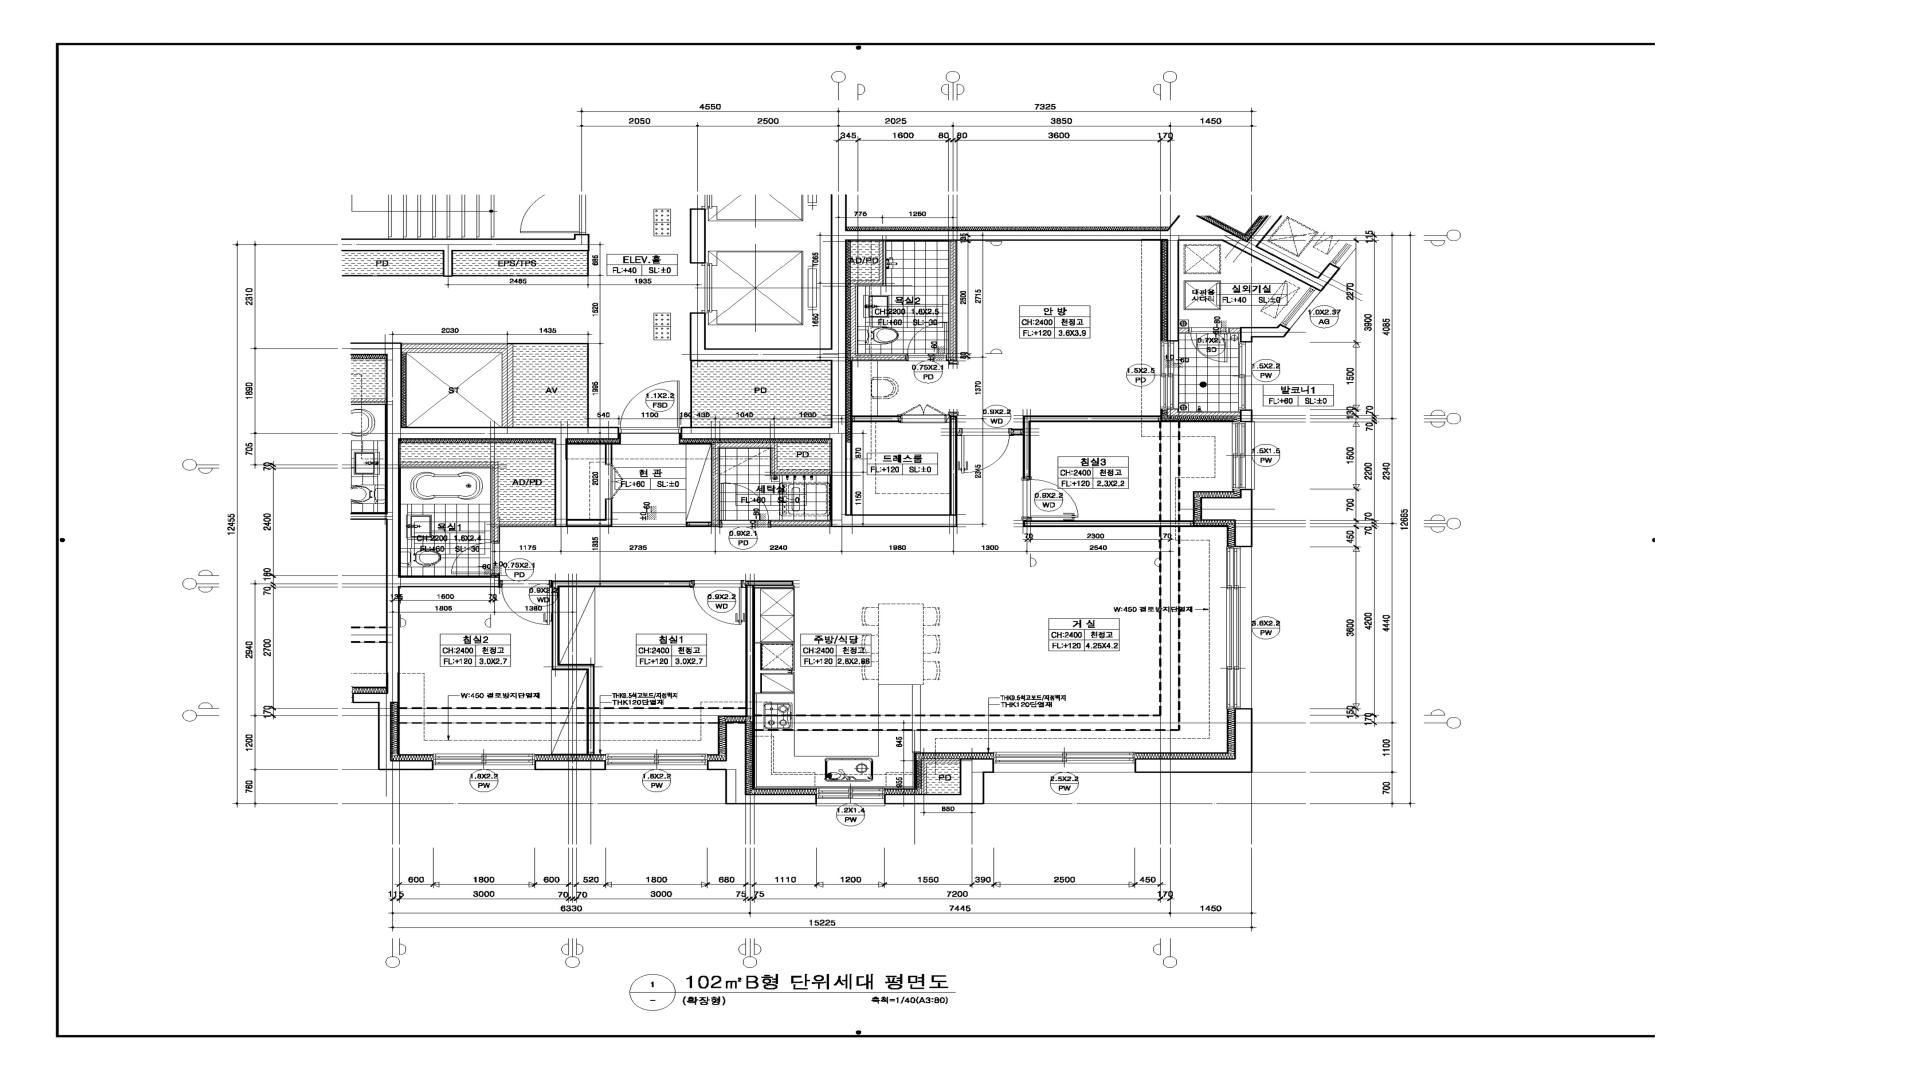door: (619, 381, 681, 433), (520, 194, 586, 234), (1021, 479, 1081, 520), (499, 581, 552, 626), (958, 424, 1011, 469), (719, 484, 771, 528), (693, 580, 743, 625), (451, 541, 500, 576), (906, 322, 949, 361), (901, 403, 945, 423), (605, 464, 626, 500)
wall: (1222, 233, 1330, 292), (385, 343, 402, 693), (831, 194, 846, 515), (341, 234, 589, 251), (846, 230, 1167, 241), (401, 426, 619, 439), (1167, 204, 1229, 241), (690, 348, 831, 361), (681, 427, 831, 439), (1135, 758, 1252, 773), (725, 721, 747, 794), (831, 515, 958, 527), (745, 586, 755, 716), (1167, 240, 1179, 342), (400, 575, 500, 587), (555, 439, 568, 527), (1234, 489, 1253, 547), (885, 793, 984, 804), (725, 793, 816, 804), (552, 580, 693, 587), (1023, 415, 1163, 422), (1023, 520, 1160, 527), (689, 208, 706, 263), (1240, 324, 1291, 342), (502, 344, 513, 427), (949, 415, 958, 515), (1234, 708, 1252, 758), (402, 344, 502, 353), (1200, 497, 1235, 521), (378, 703, 392, 760), (1133, 194, 1176, 212), (535, 760, 606, 770), (587, 670, 595, 754), (552, 587, 560, 664), (950, 241, 955, 360), (1167, 409, 1240, 417), (690, 312, 706, 348), (378, 760, 434, 770), (959, 758, 994, 773), (960, 773, 984, 794), (712, 447, 718, 526), (401, 462, 493, 467), (1023, 422, 1031, 479), (850, 285, 856, 355), (493, 462, 498, 541), (568, 519, 613, 527), (851, 415, 901, 422), (770, 521, 831, 526), (498, 521, 555, 526), (850, 355, 906, 360), (777, 469, 831, 474), (712, 443, 778, 447), (443, 251, 453, 277), (552, 664, 595, 670), (746, 581, 794, 586), (378, 693, 400, 703), (879, 241, 884, 280), (921, 763, 927, 794), (707, 760, 725, 770), (587, 343, 589, 427), (851, 280, 884, 285), (605, 499, 613, 519), (1240, 409, 1252, 422), (921, 759, 959, 763), (605, 444, 612, 464), (772, 447, 777, 474), (453, 275, 587, 276), (690, 361, 692, 427), (686, 522, 712, 527), (342, 275, 443, 276), (507, 343, 587, 344), (1011, 425, 1023, 431), (587, 251, 589, 276), (946, 416, 950, 422), (743, 581, 746, 588)
window: (1226, 547, 1252, 708), (994, 752, 1135, 772), (606, 753, 708, 770), (1280, 286, 1320, 329), (1232, 422, 1255, 490), (433, 754, 535, 769), (816, 788, 885, 806), (1161, 341, 1178, 410), (1239, 342, 1252, 410)
